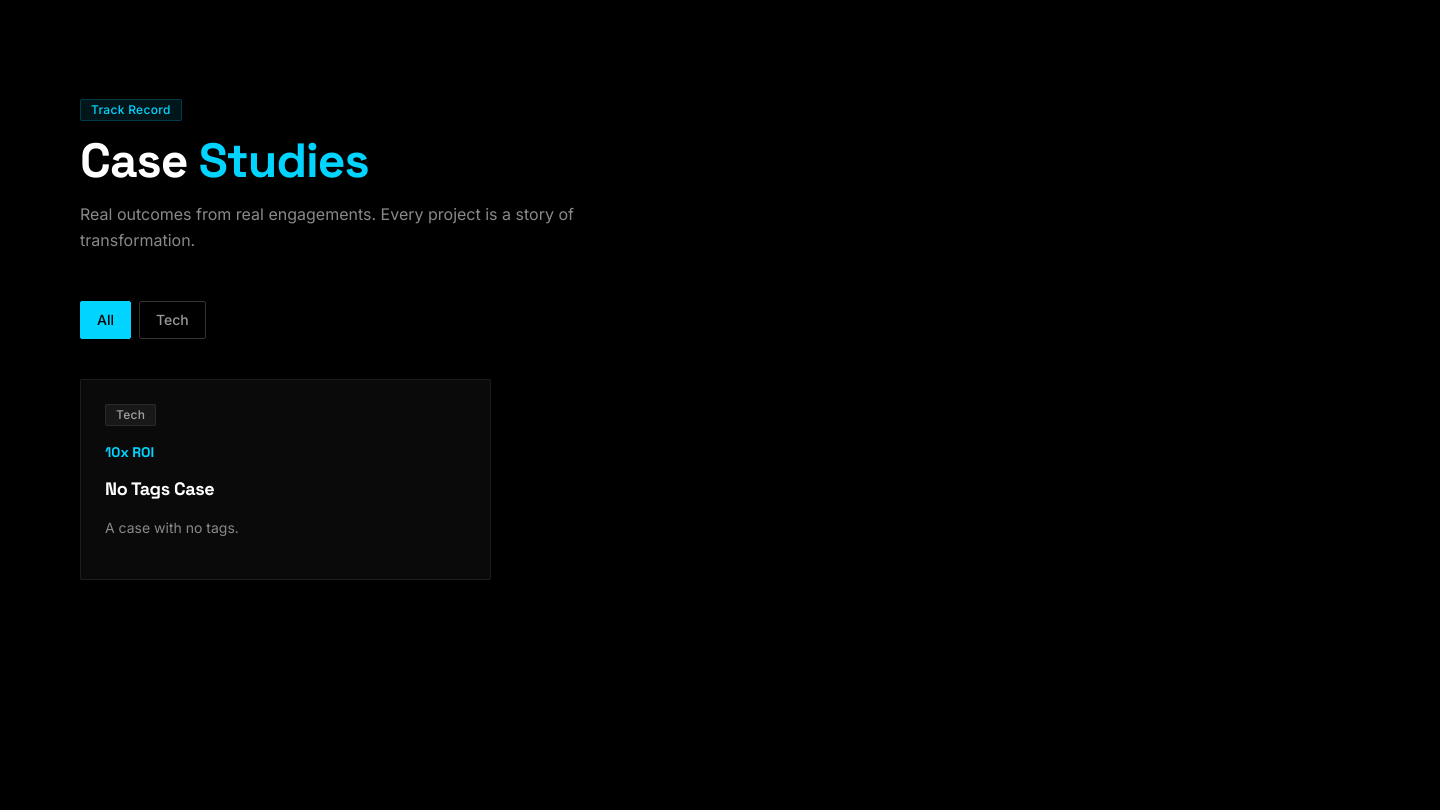
Test: CaseStudies › renders card and modal without crashing when tags is not an array (covers [] fallback)
Click the button with aria-label "view case study: no tags case": {"x": 131, "y": 415} [80,379,491,580]
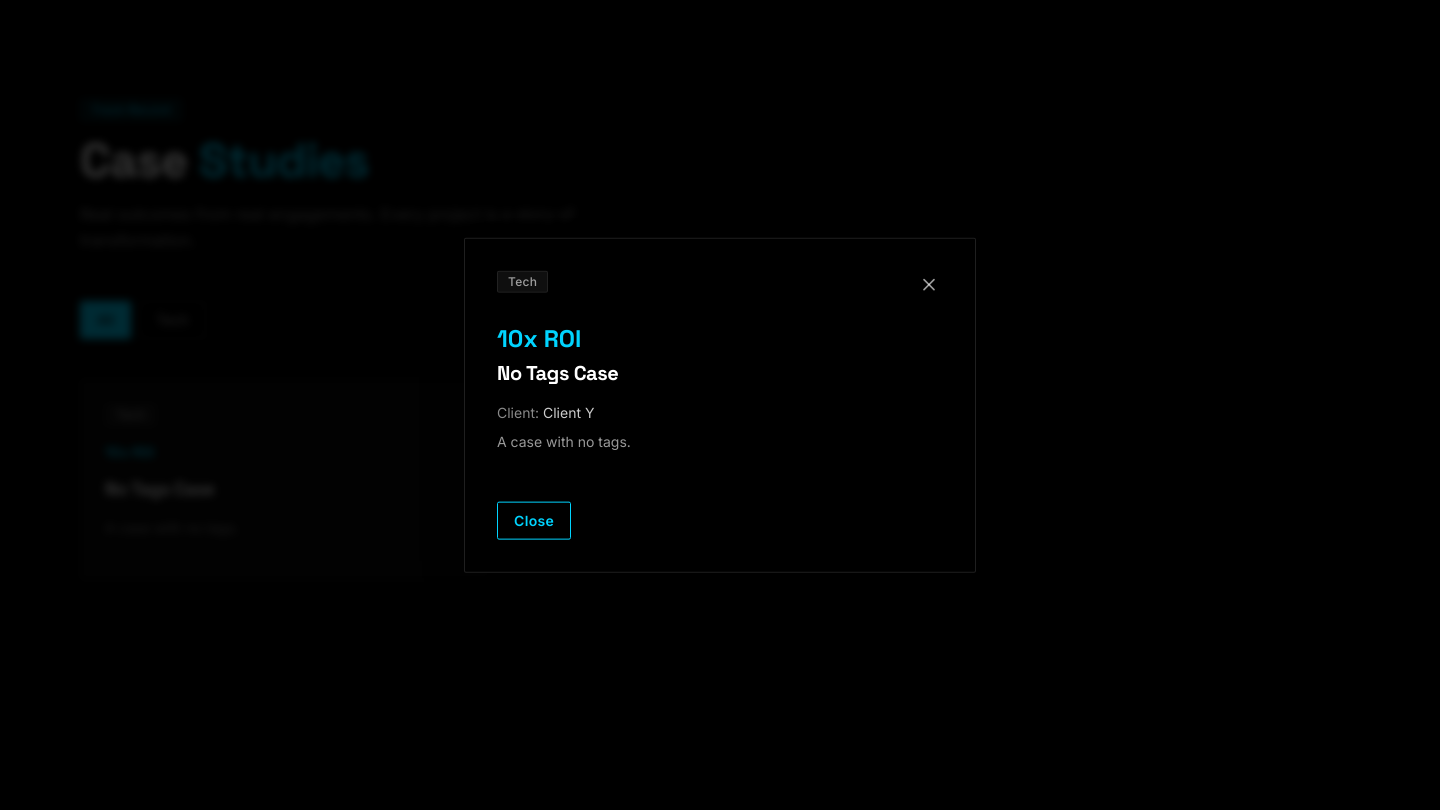
Now the dialog is shown, box [464,238,976,572]
